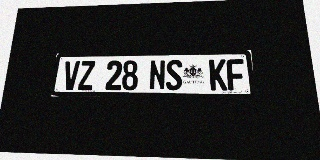2: (105, 60, 122, 90)
8: (121, 60, 138, 90)
F: (226, 59, 245, 90)
K: (209, 59, 227, 90)
N: (149, 60, 165, 90)
S: (166, 60, 182, 90)
V: (62, 61, 80, 90)
Z: (78, 61, 95, 90)
